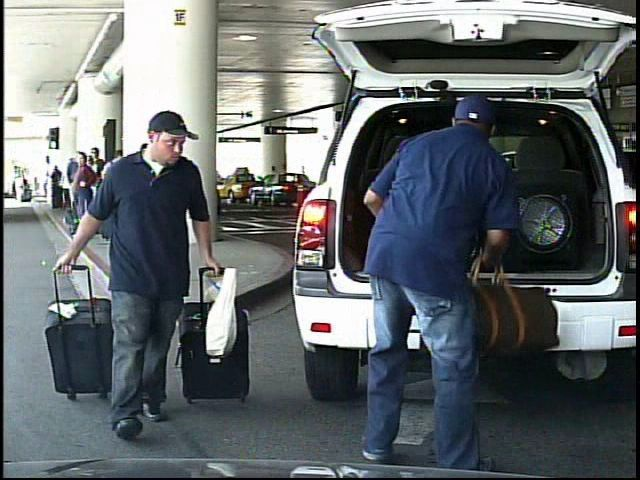person: (343, 93, 529, 476), (78, 109, 237, 438), (277, 162, 289, 198), (14, 171, 25, 202)
